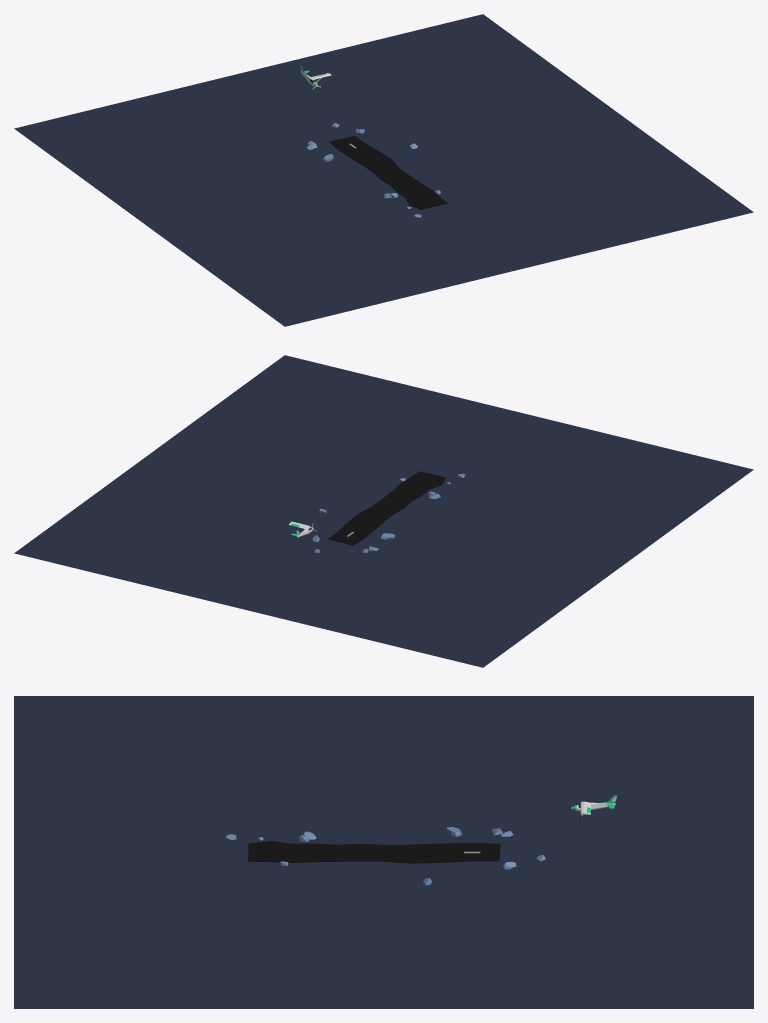
The model's file is landing.glb.
3 renders of one model, top to bottom at view 1: azimuth 30°, elevation 25°; view 2: azimuth 150°, elevation 25°; view 3: azimuth 270°, elevation 25°, orthographic. The views are drawn at different scales.
Parts seen in each view (by area): view 1: Plane.004, Plane.005; view 2: Plane.004, Plane.005; view 3: Plane.004, Plane.005.
Boxes of the visible parts, x1=… form: Plane.004: x1=14, y1=14, x2=753, y2=326; Plane.005: x1=329, y1=136, x2=447, y2=209; Plane.004: x1=14, y1=355, x2=753, y2=667; Plane.005: x1=328, y1=471, x2=445, y2=545; Plane.004: x1=14, y1=696, x2=753, y2=1008; Plane.005: x1=248, y1=841, x2=500, y2=863.
Bounding box in the file's own units: 150 × 22.25 × 150.
